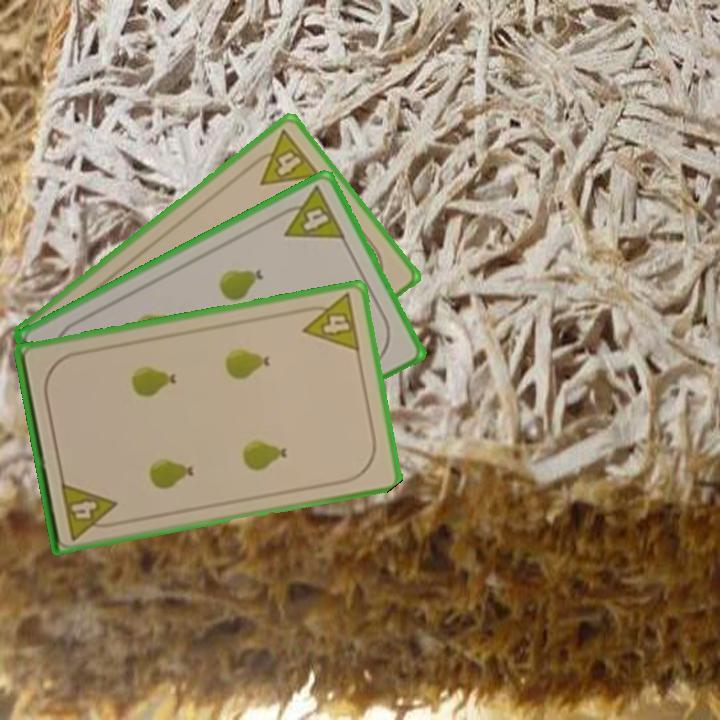4p: (244, 125, 324, 189), (271, 182, 348, 242), (296, 290, 363, 355), (57, 478, 122, 543)
